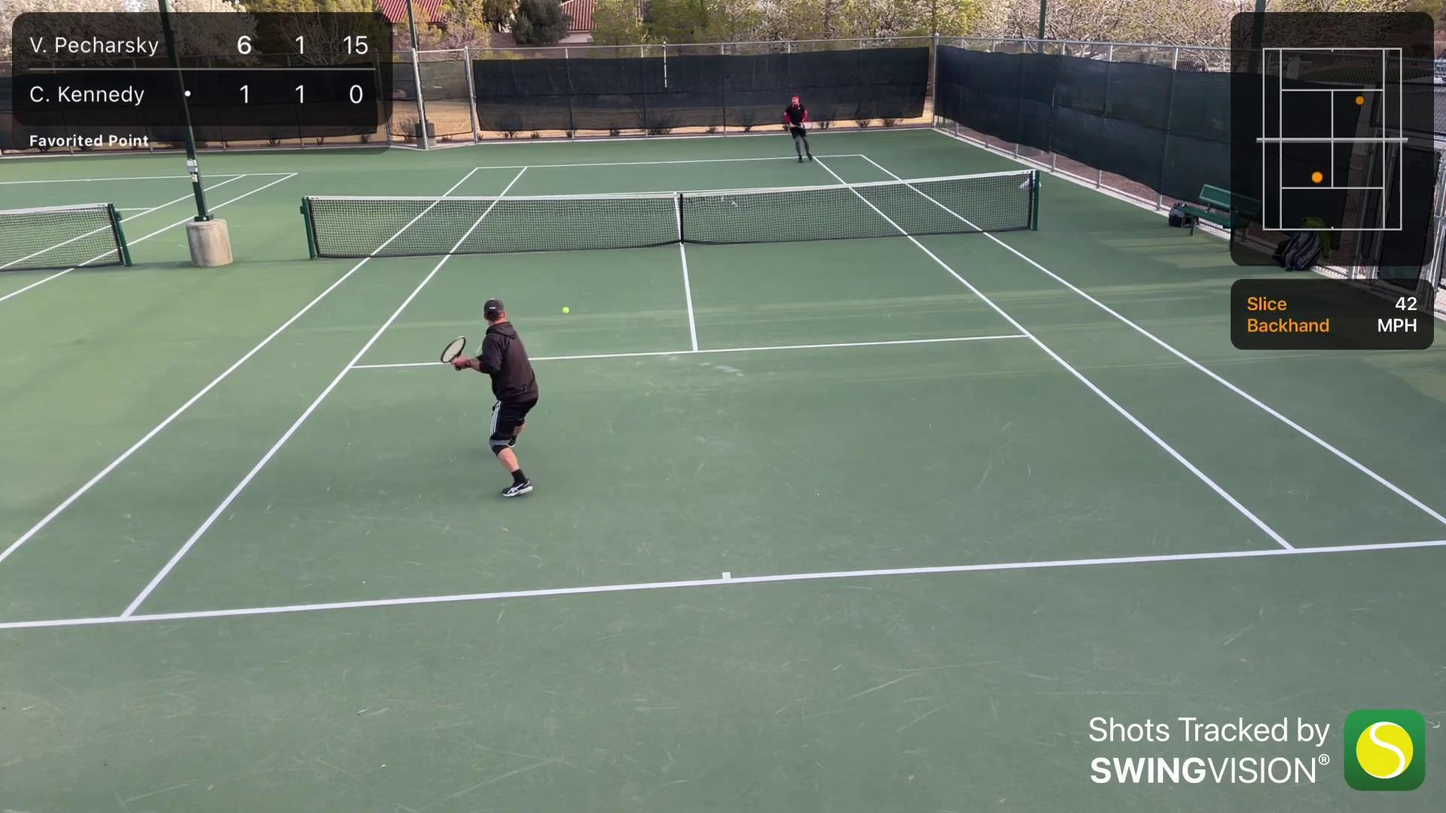ball: (561, 307, 570, 314)
